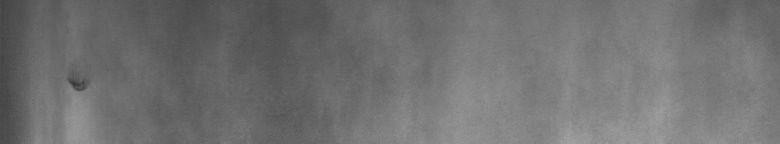fi: (64, 74, 90, 100)
